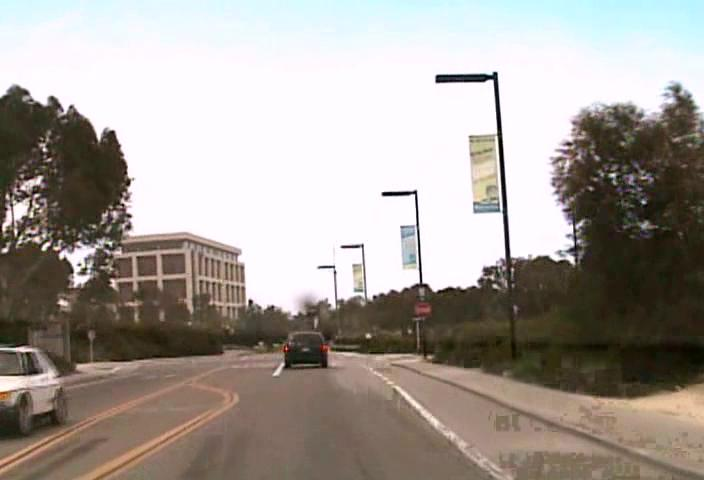stop: (413, 301, 431, 319)
